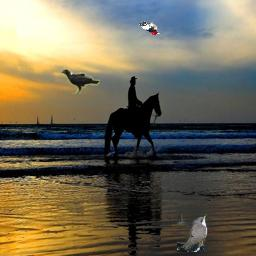Crow: (61, 69, 100, 94)
Cuckoo: (177, 214, 208, 252)
Woodpecker: (139, 21, 162, 35)
